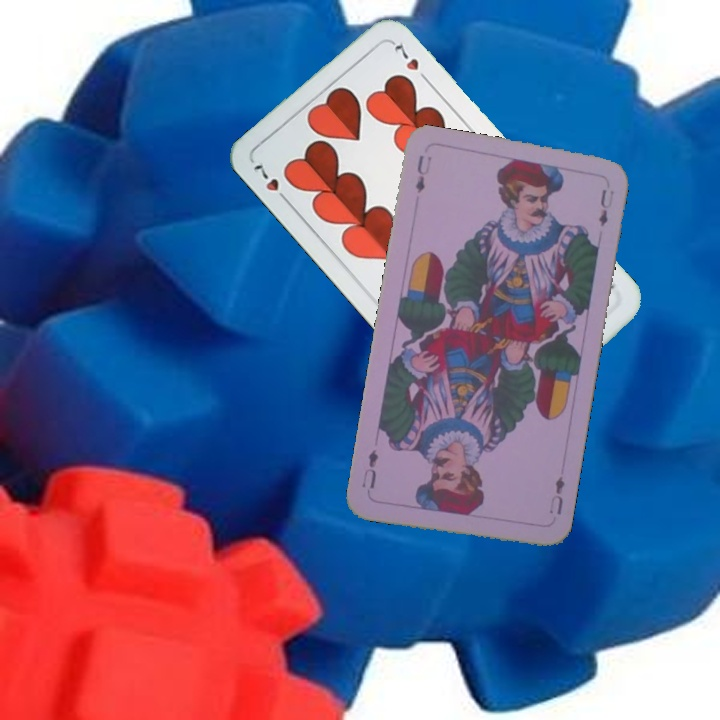EU: (545, 466, 568, 518), (411, 151, 435, 196)
H7: (249, 158, 292, 207)
